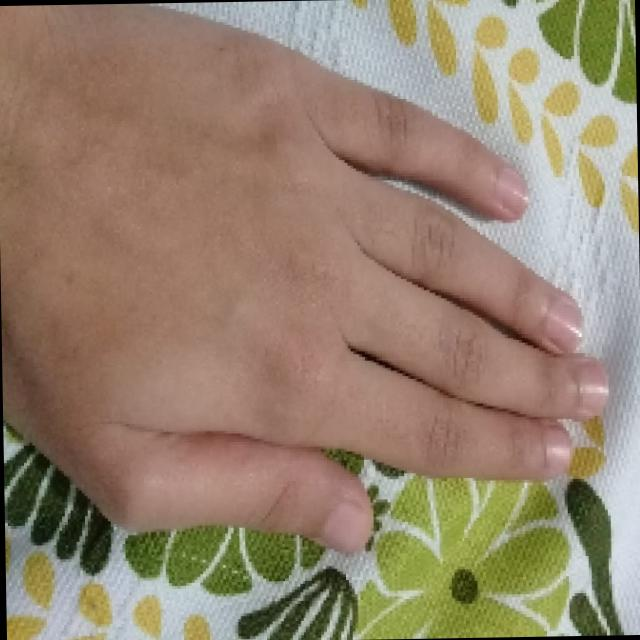Nail: (321, 502, 368, 551), (545, 301, 581, 353), (494, 172, 527, 213), (576, 368, 608, 410), (543, 427, 570, 473)
